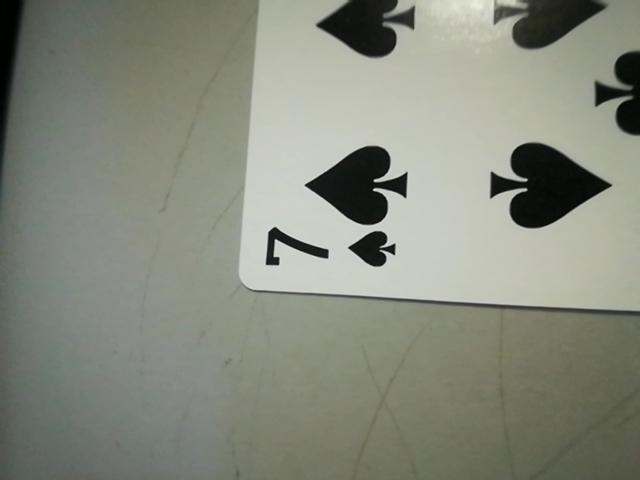ht 7: (250, 217, 401, 284)
